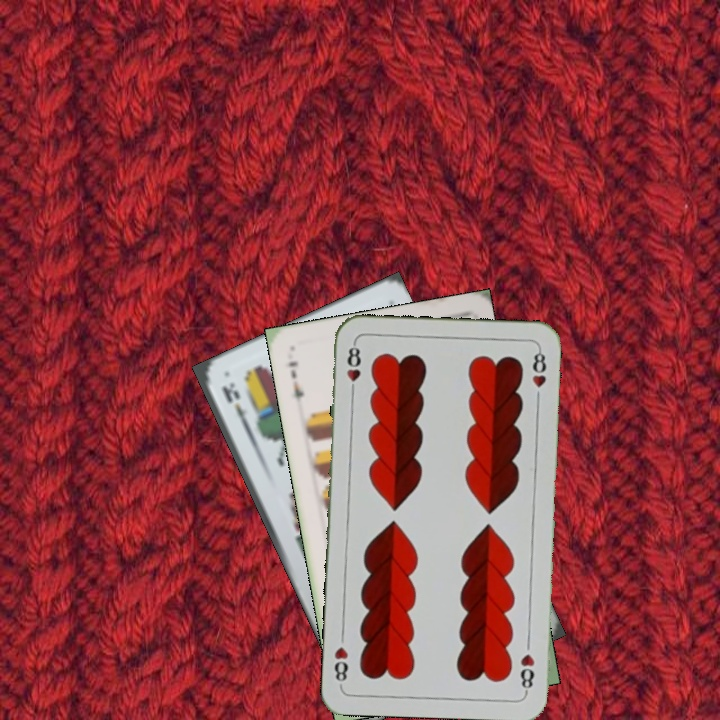E7: (284, 357, 307, 402)
EK: (217, 378, 253, 434)
H8: (343, 339, 363, 399), (516, 650, 537, 695)
